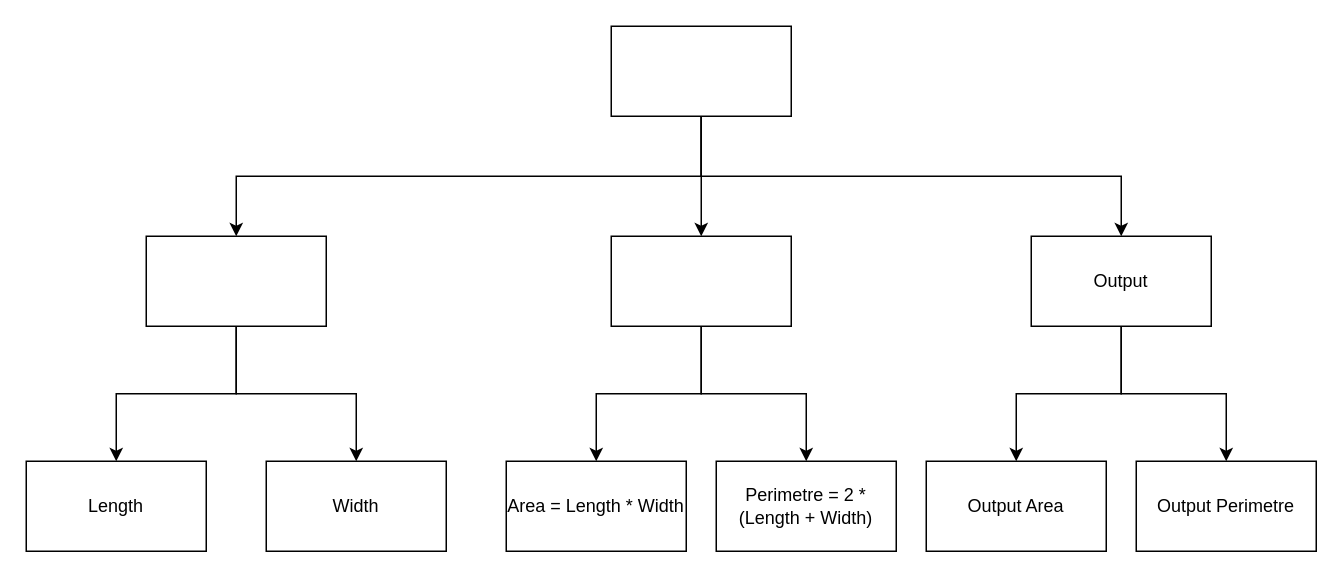
This 1343x578 diagram has some shape labels left out. Here are the shapes that lost their labels. From the top down, the centre of each, then its label:
point 700,70: Area and Perimetre
point 235,280: Input
point 700,280: Process
